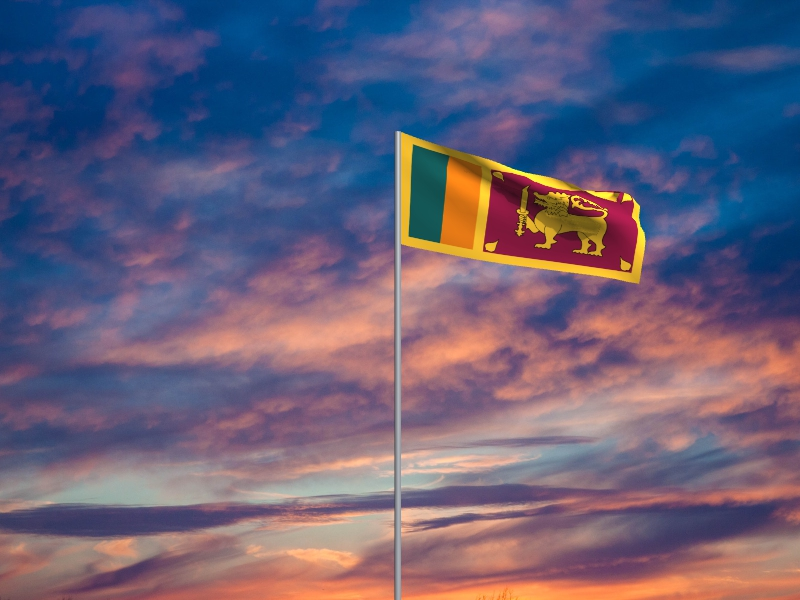lk: (402, 133, 647, 285)
